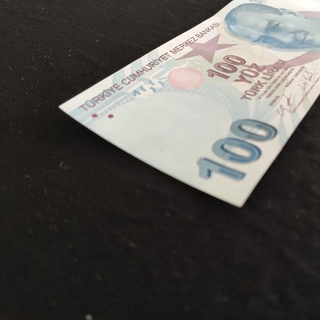100TLFront: (58, 0, 320, 208)
